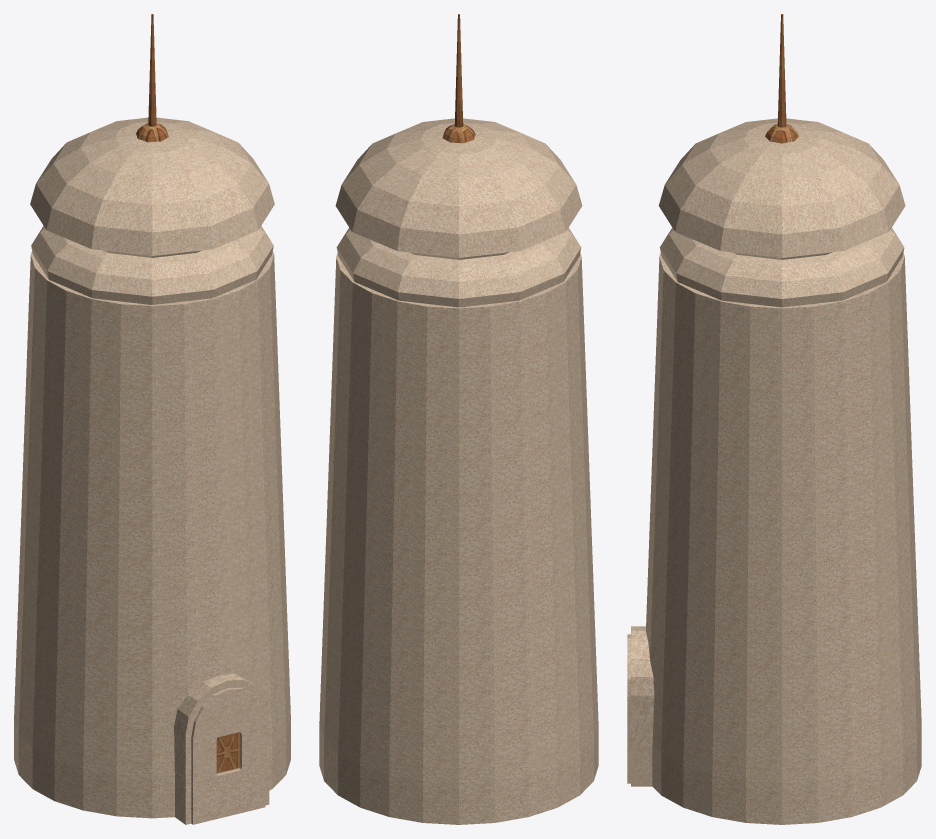
File: thm_tato_imprv_building_s06_l0.fbx
3 renders of one model, left to right at view 1: azimuth 30°, elevation 25°; view 2: azimuth 150°, elevation 25°; view 3: azimuth 270°, elevation 25°, orthographic.
Parts seen in each view (by area): view 1: mesh_node; view 2: mesh_node; view 3: mesh_node.
Boxes of the visible parts, x1=… form: mesh_node: x1=14, y1=14, x2=290, y2=824; mesh_node: x1=319, y1=14, x2=598, y2=824; mesh_node: x1=627, y1=14, x2=921, y2=824.
Size of the model in its own units: 20.02 by 59.46 by 21.12.
